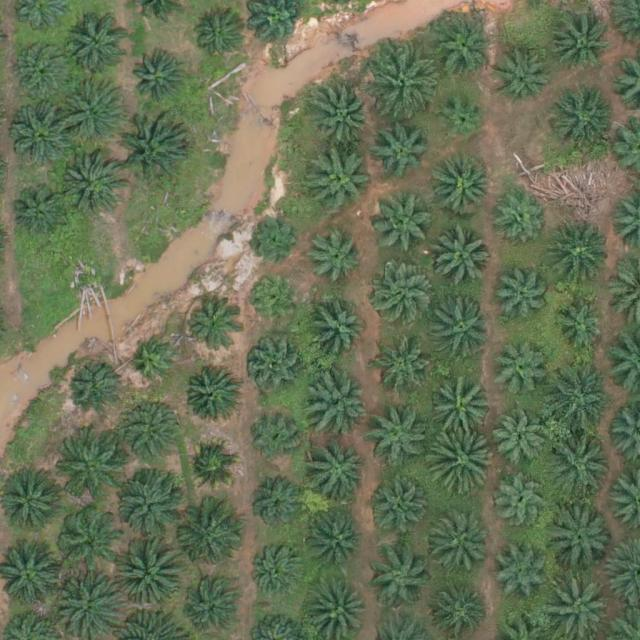Healthy: (545, 427, 615, 498), (545, 365, 616, 435), (427, 427, 497, 498), (115, 537, 186, 607), (116, 465, 187, 535), (368, 50, 438, 121), (56, 75, 126, 146), (176, 502, 246, 572), (117, 115, 187, 185), (367, 478, 430, 541), (54, 438, 117, 501), (550, 88, 613, 151), (547, 224, 610, 287), (430, 297, 493, 360), (434, 17, 496, 80), (550, 12, 612, 75), (551, 509, 613, 572), (434, 379, 496, 442), (366, 409, 428, 472), (369, 547, 432, 609), (307, 301, 370, 363), (309, 374, 372, 436), (308, 438, 370, 501), (121, 397, 183, 460), (58, 508, 120, 571), (3, 468, 65, 531), (431, 225, 493, 288), (371, 263, 433, 326), (304, 226, 366, 289), (60, 153, 122, 216), (13, 101, 75, 164), (67, 15, 129, 77), (426, 511, 488, 573), (431, 155, 493, 217), (374, 191, 436, 253), (314, 85, 376, 147), (308, 151, 370, 213), (491, 344, 546, 399), (493, 414, 548, 469), (494, 475, 549, 530), (429, 584, 484, 639), (380, 345, 435, 400), (309, 511, 364, 566), (248, 274, 303, 329), (248, 338, 303, 393), (250, 411, 305, 466), (251, 481, 306, 536), (251, 546, 306, 601), (187, 301, 242, 356), (68, 361, 123, 416), (553, 295, 608, 350), (497, 51, 552, 106), (374, 127, 429, 182), (248, 213, 303, 268), (16, 42, 71, 97), (13, 183, 68, 238), (192, 11, 246, 66), (495, 549, 549, 604), (185, 366, 239, 421), (185, 440, 239, 495), (183, 578, 237, 633), (495, 266, 549, 321), (493, 189, 547, 244), (133, 54, 187, 109)
Small: (132, 339, 179, 387), (439, 95, 486, 142)
